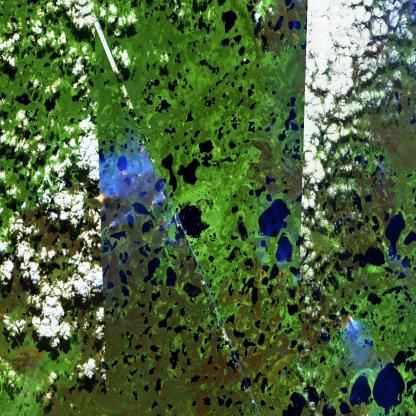fire: (90, 134, 184, 250), (250, 253, 304, 314), (335, 299, 361, 339)
